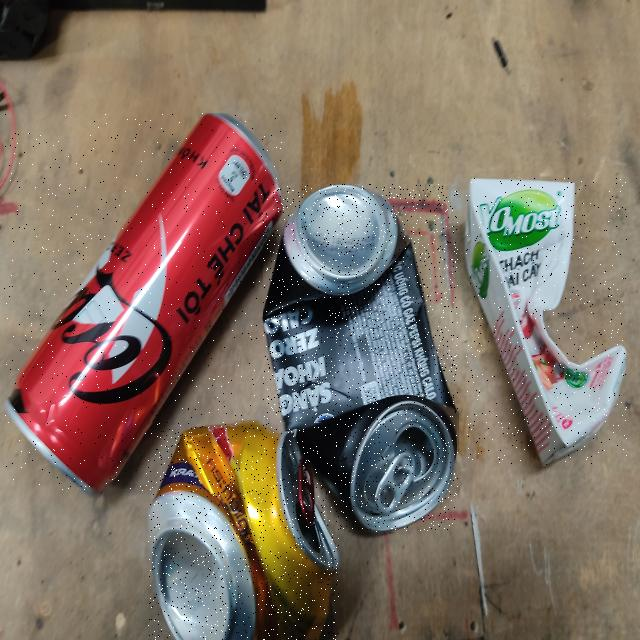metal: (4, 113, 283, 491), (263, 185, 458, 532), (148, 422, 339, 640)
paper: (466, 179, 627, 465)
